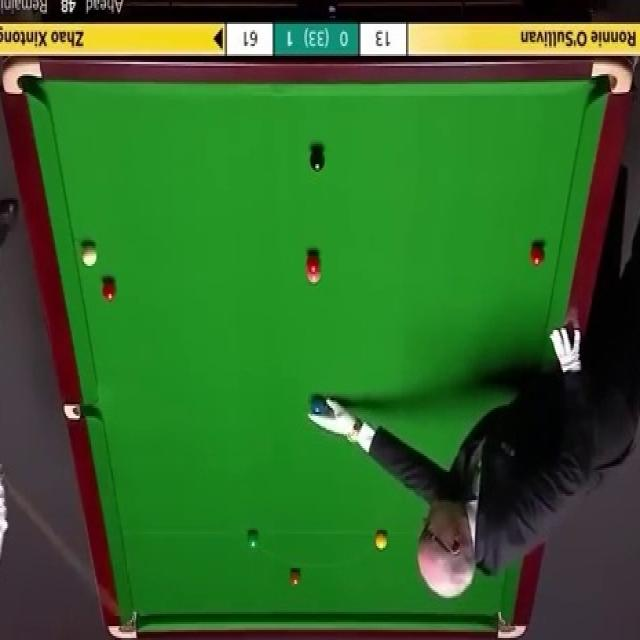black-ball: (308, 146, 326, 172)
blue-ball: (311, 396, 324, 416)
brown-ball: (289, 568, 302, 588)
green-ball: (247, 530, 260, 551)
pink-ball: (306, 270, 322, 284)
red-ball: (529, 242, 545, 268), (305, 252, 322, 273), (102, 278, 116, 300)
white-ball: (81, 242, 98, 267)
yellow-ball: (375, 530, 387, 550)
